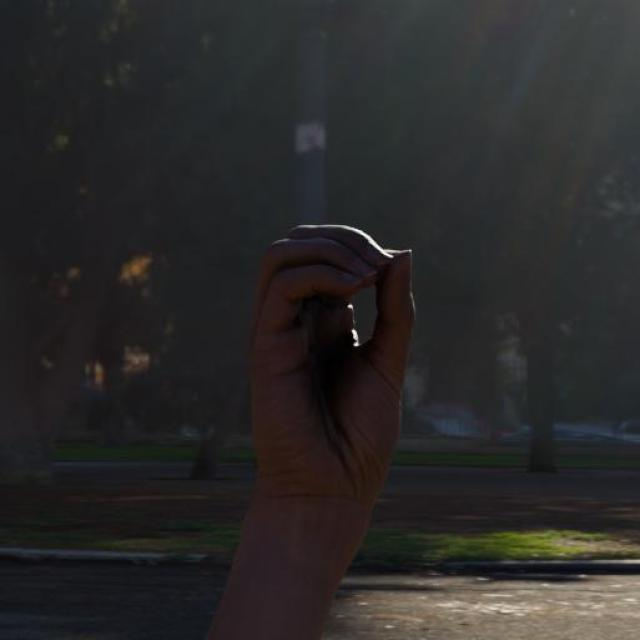O: (210, 193, 476, 593)
